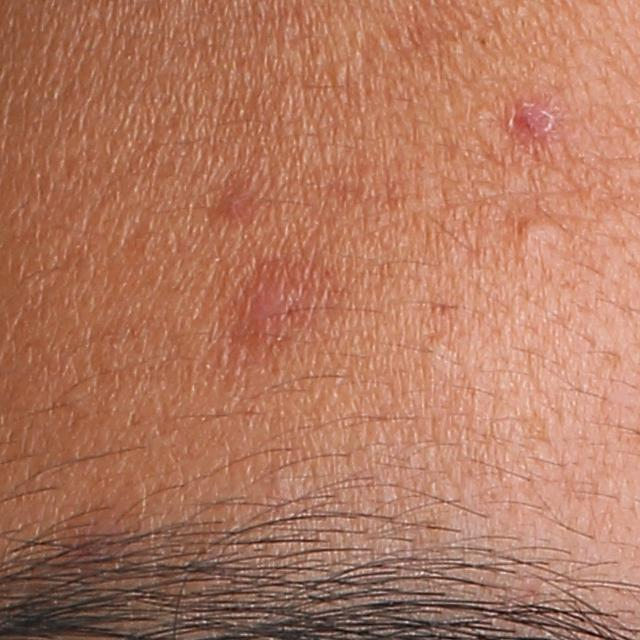comedo: (516, 216, 565, 248)
papule: (233, 279, 291, 338), (508, 104, 555, 144)
